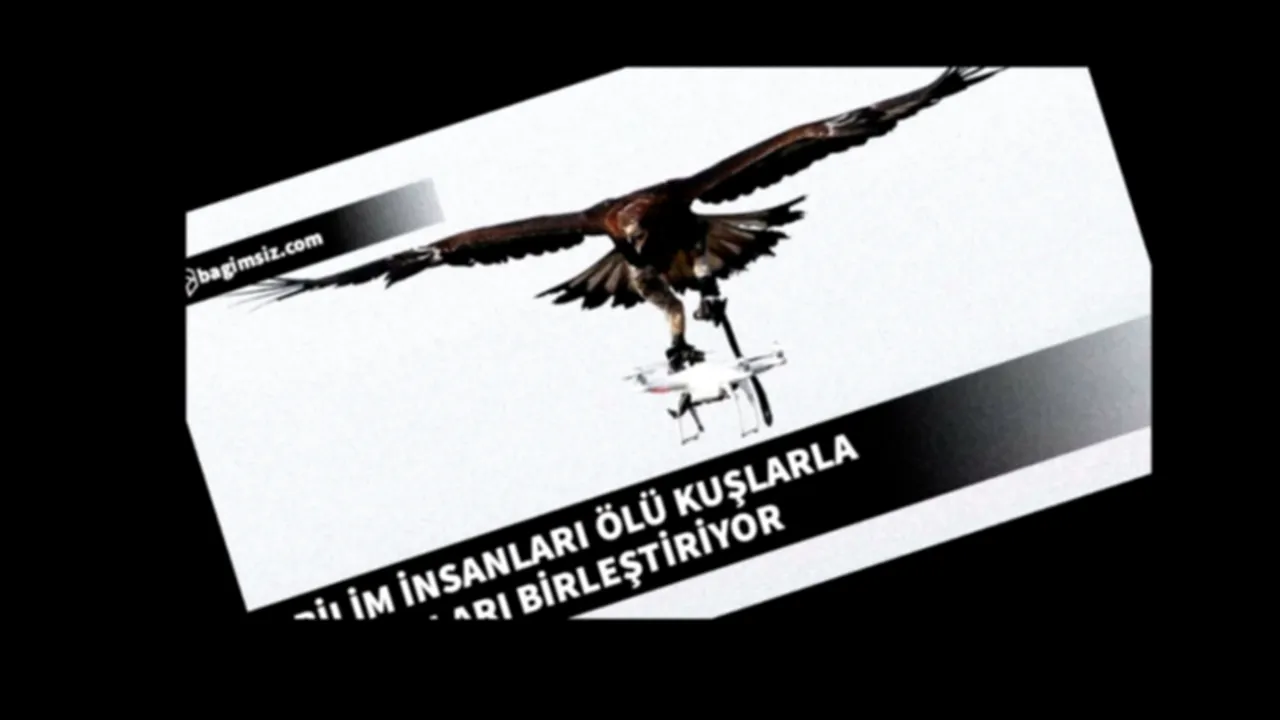Bird: (219, 61, 1049, 380)
UAV: (619, 336, 801, 455)
